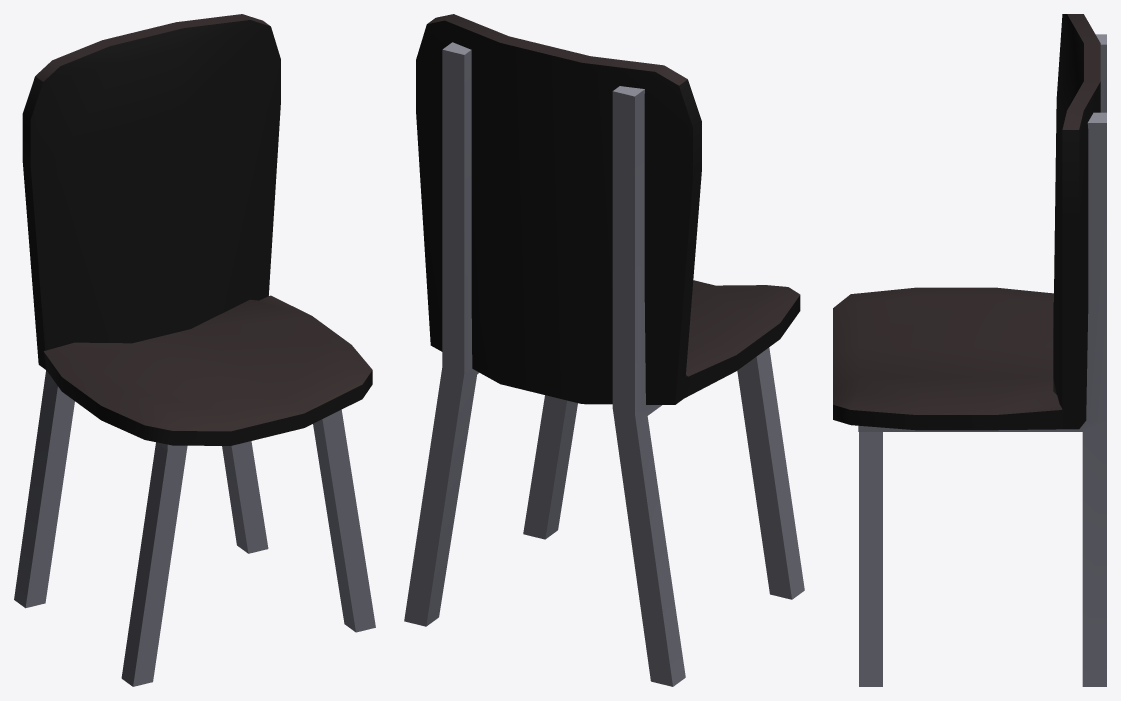
Rendered from HighBackChair.glb.
The picture shows the model from 3 angles, left to right: view 1: azimuth 30°, elevation 25°; view 2: azimuth 150°, elevation 25°; view 3: azimuth 270°, elevation 25°; orthographic projection. The views are drawn at different scales.
Visible parts, largest first — view 1: Chair_highBack; view 2: Chair_highBack; view 3: Chair_highBack.
Part boxes in pixels (<box>): Chair_highBack: <box>14,14,375,686</box>; Chair_highBack: <box>404,14,804,686</box>; Chair_highBack: <box>833,14,1106,686</box>.
Size of what is drawn, in the model's own units: 0.6637 by 1.37 by 0.6034.
Materials: 1 (1 with a texture image).
